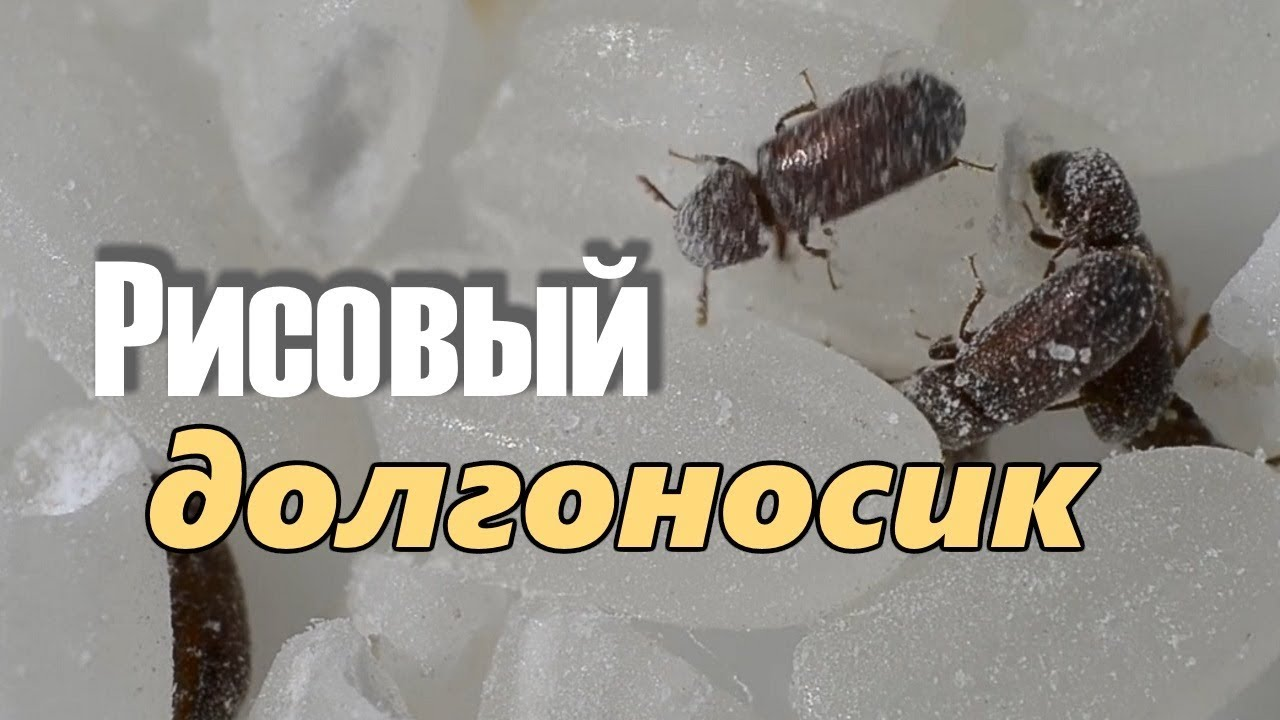dolgonosik: (648, 62, 990, 323), (883, 264, 1165, 494)
